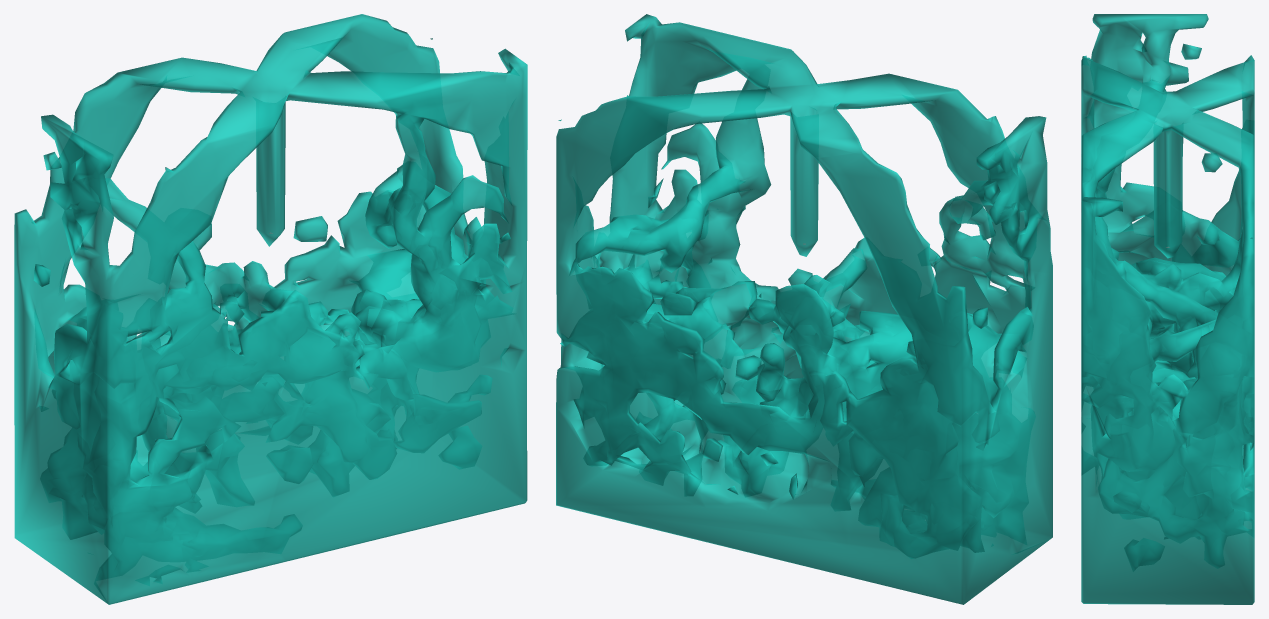
3 views of the same model, side by side, from view 1: azimuth 30°, elevation 25°; view 2: azimuth 150°, elevation 25°; view 3: azimuth 270°, elevation 25° (orthographic). The views are drawn at different scales.
Visible parts, largest first — view 1: Liquid_Domain; view 2: Liquid_Domain; view 3: Liquid_Domain.
Boxes of the visible parts, <box> form: Liquid_Domain: <box>14,14,527,604</box>; Liquid_Domain: <box>556,14,1052,604</box>; Liquid_Domain: <box>1081,14,1254,604</box>.
Bounding box in the file's own units: 884 × 884 × 345.
